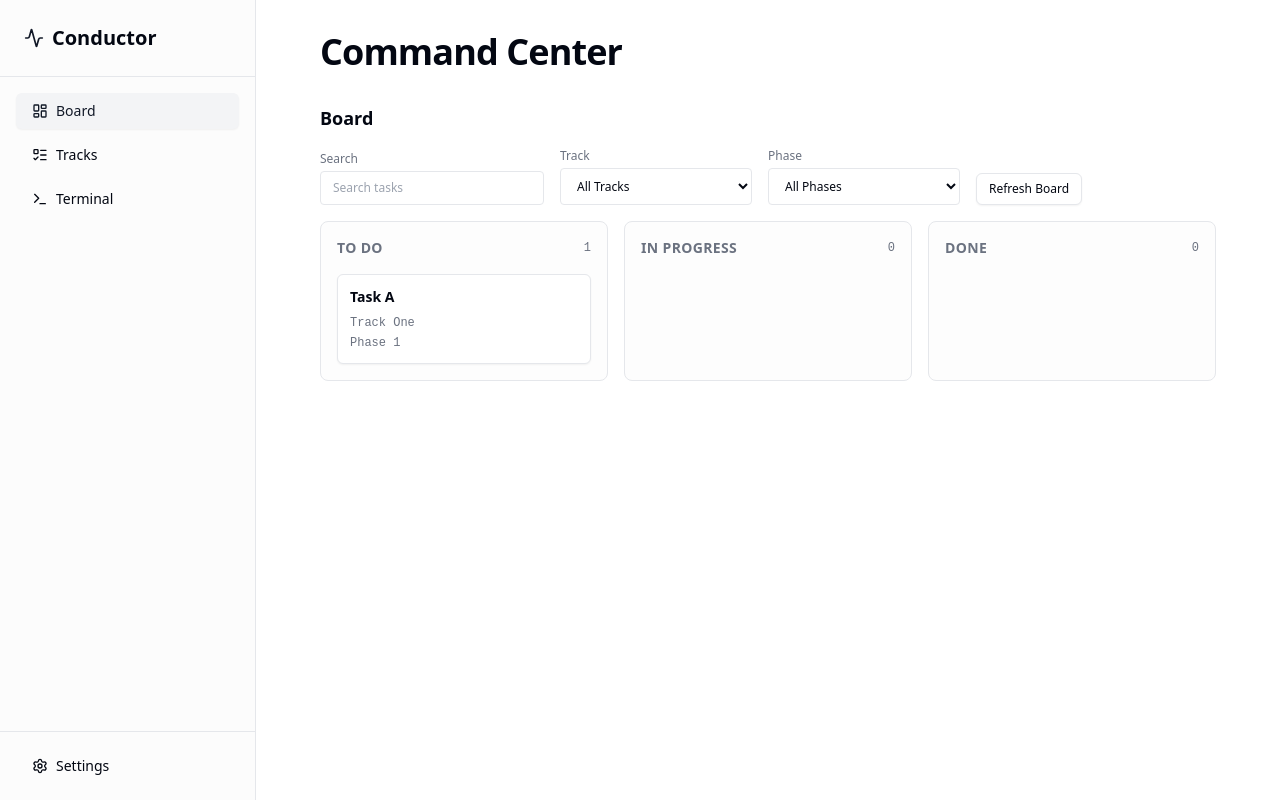
App Component › opens the plan detail panel when a task card is clicked
This screenshot has width=1280, height=800.
Step 1. Click the heading "Task A" → (372, 296), box [350,287,394,306]
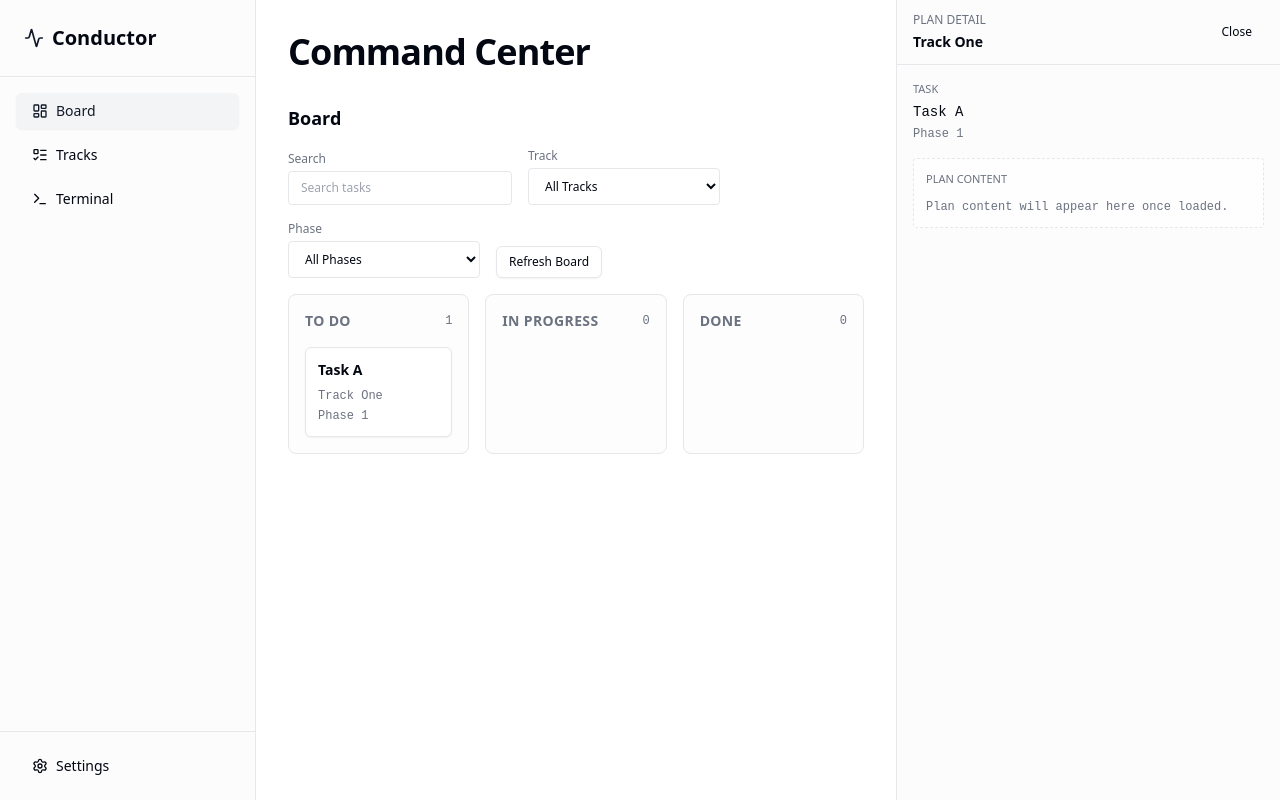
Now the element with test id "plan-detail-panel" is shown, box [896,0,1279,799]
Now the text "Plan Detail" is shown, box [913,12,986,28]
Now the heading "Track One" is shown, box [913,32,986,52]
Step 2. Click the button "Close" → (1237, 32), box [1210,16,1264,48]
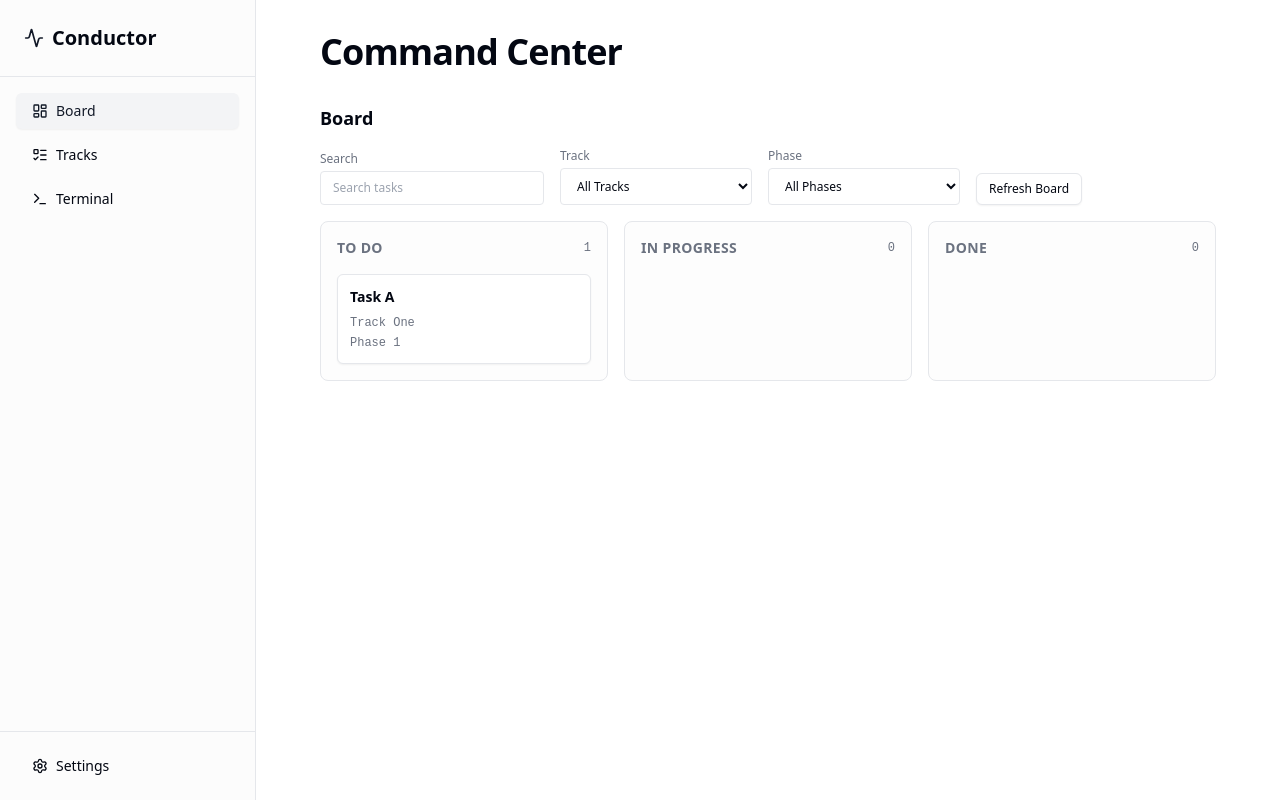
Now the element with test id "plan-detail-panel" is gone
